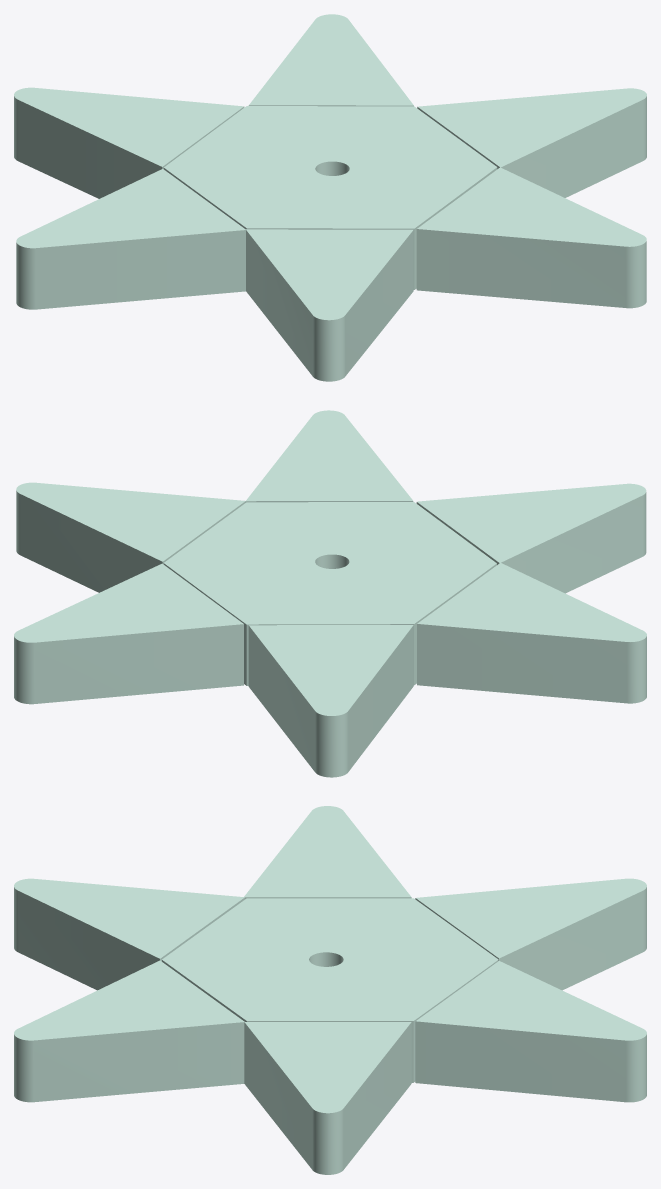
3 views of the same model, one above another, from view 1: azimuth 30°, elevation 25°; view 2: azimuth 150°, elevation 25°; view 3: azimuth 270°, elevation 25° (orthographic).
Visible parts, largest first — view 1: Renderer Node; view 2: Renderer Node; view 3: Renderer Node.
Boxes of the visible parts, <box> form: Renderer Node: <box>14,14,646,381</box>; Renderer Node: <box>14,410,646,777</box>; Renderer Node: <box>14,806,646,1174</box>.
Bounding box in the file's own units: 1.5 × 0.1406 × 1.31.
